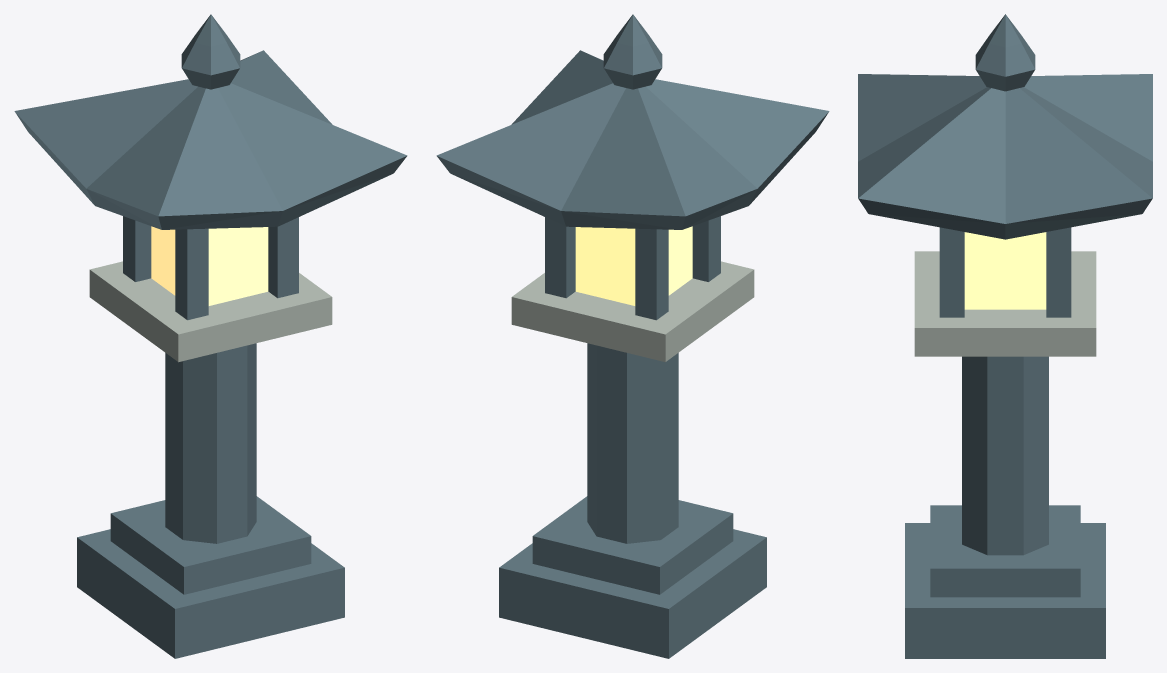
The model's file is stone_lantern.glb.
3 views of the same model, side by side, from view 1: azimuth 30°, elevation 25°; view 2: azimuth 150°, elevation 25°; view 3: azimuth 270°, elevation 25° (orthographic). The views are drawn at different scales.
Visible parts, largest first — view 1: StoneLantern / Stone, StoneLantern / Coping, StoneLantern / Lantern; view 2: StoneLantern / Stone, StoneLantern / Coping, StoneLantern / Lantern; view 3: StoneLantern / Stone, StoneLantern / Coping, StoneLantern / Lantern.
Boxes of the visible parts, left/top/right/bottom form: StoneLantern / Stone: left=14, top=14, right=407, bottom=658; StoneLantern / Coping: left=89, top=261, right=332, bottom=362; StoneLantern / Lantern: left=151, top=226, right=268, bottom=305; StoneLantern / Stone: left=436, top=14, right=829, bottom=658; StoneLantern / Coping: left=511, top=261, right=754, bottom=362; StoneLantern / Lantern: left=575, top=226, right=692, bottom=305; StoneLantern / Stone: left=858, top=14, right=1152, bottom=658; StoneLantern / Coping: left=914, top=251, right=1096, bottom=356; StoneLantern / Lantern: left=964, top=232, right=1046, bottom=309.
Bounding box in the file's own units: 0.94 × 2.12 × 0.94.
